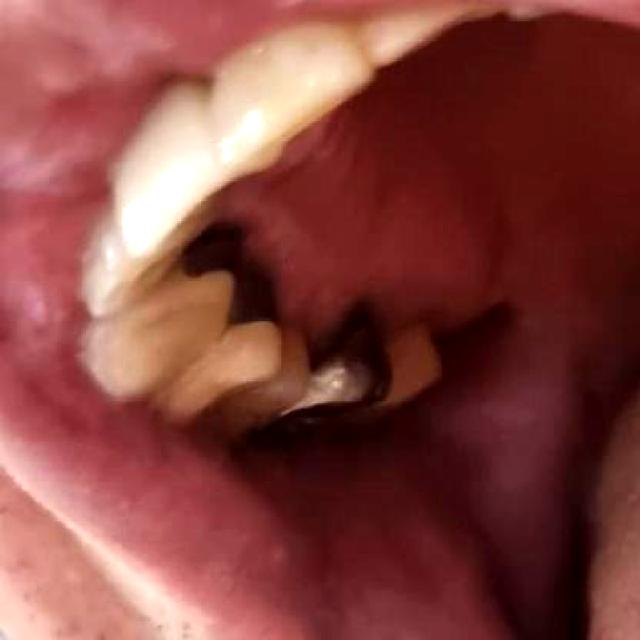Plaque: (267, 262, 394, 357)
